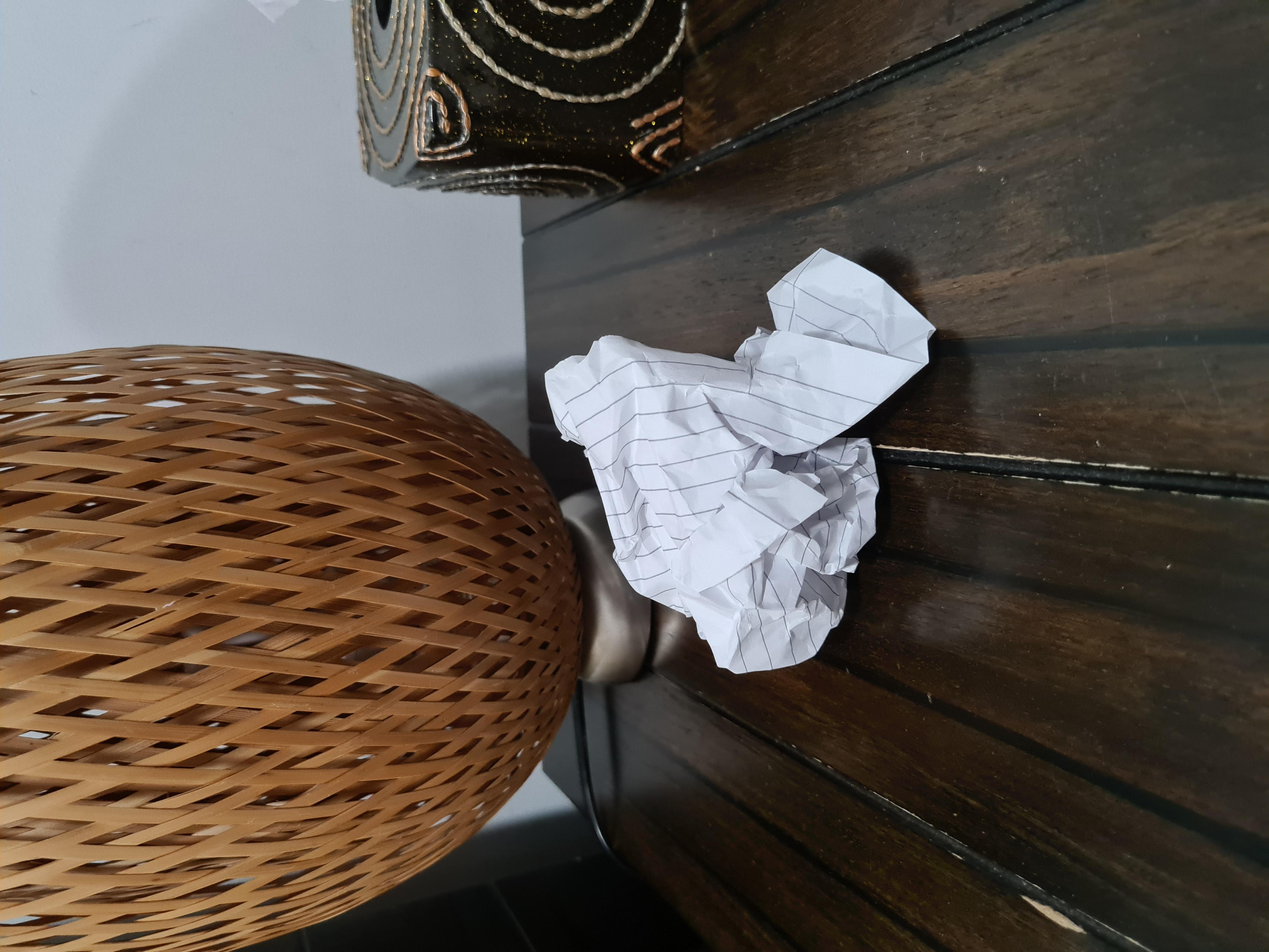paper: (353, 395, 929, 702)
